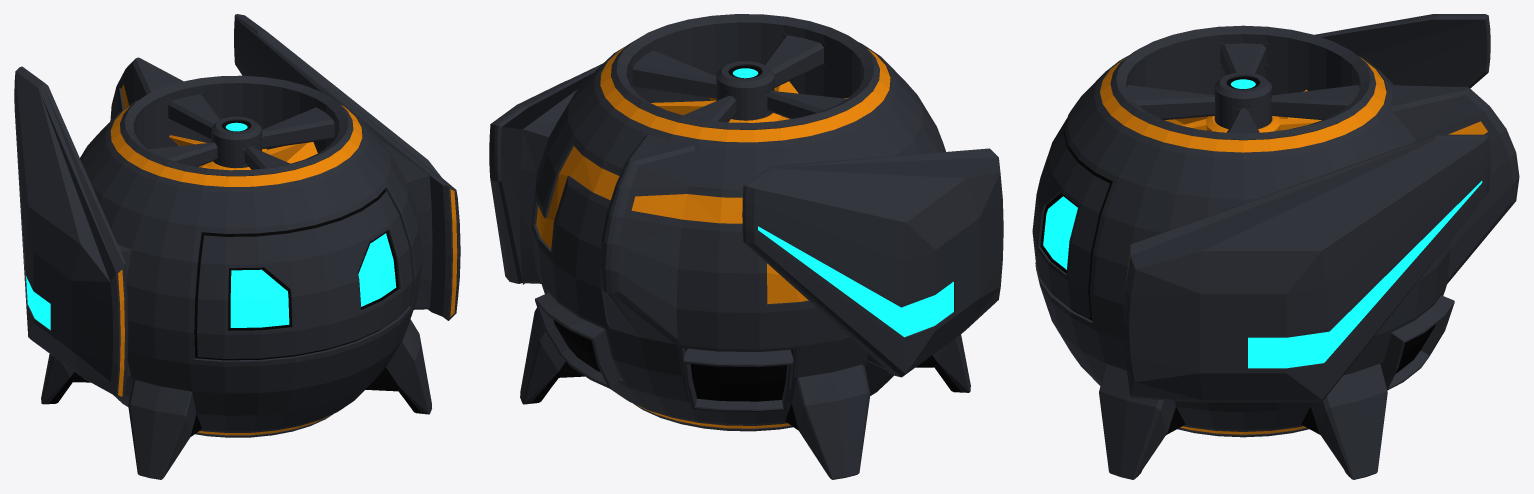
The model's file is SM_ScoutDrone.fbx.
3 renders of one model, left to right at view 1: azimuth 30°, elevation 25°; view 2: azimuth 150°, elevation 25°; view 3: azimuth 270°, elevation 25°, orthographic. The views are drawn at different scales.
Parts seen in each view (by area): view 1: SM_ScoutDrone_Body, SM_ScoutDrone_Rotor; view 2: SM_ScoutDrone_Body, SM_ScoutDrone_Rotor; view 3: SM_ScoutDrone_Body, SM_ScoutDrone_Rotor.
Part boxes in pixels (x1,y1,x2,y2): SM_ScoutDrone_Body: (14, 14, 460, 479); SM_ScoutDrone_Rotor: (169, 135, 317, 170); SM_ScoutDrone_Body: (489, 14, 1003, 479); SM_ScoutDrone_Rotor: (651, 81, 848, 122); SM_ScoutDrone_Body: (1032, 14, 1519, 479); SM_ScoutDrone_Rotor: (1165, 89, 1321, 132).
Bounding box in the file's own units: 29.33 × 21.7 × 29.6.
